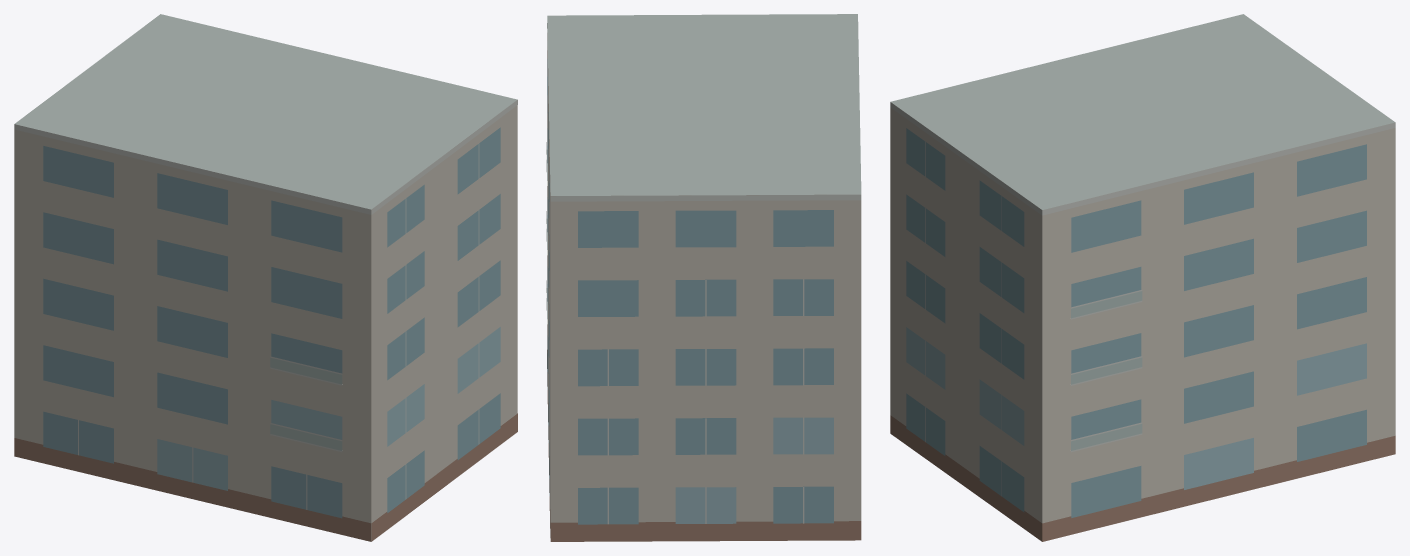
The model's file is survey-upis-32863481.glb.
The picture shows the model from 3 angles, left to right: view 1: azimuth 30°, elevation 25°; view 2: azimuth 150°, elevation 25°; view 3: azimuth 270°, elevation 25°; orthographic projection. The views are drawn at different scales.
Parts seen in each view (by area): view 1: survey-upis-32863481.tmp; view 2: survey-upis-32863481.tmp; view 3: survey-upis-32863481.tmp.
Boxes of the visible parts, x1,y1,x2,y2 form: survey-upis-32863481.tmp: [14, 14, 517, 541]; survey-upis-32863481.tmp: [546, 14, 861, 541]; survey-upis-32863481.tmp: [890, 14, 1395, 541].
Bounding box in the file's own units: 19.03 × 15 × 20.72.
